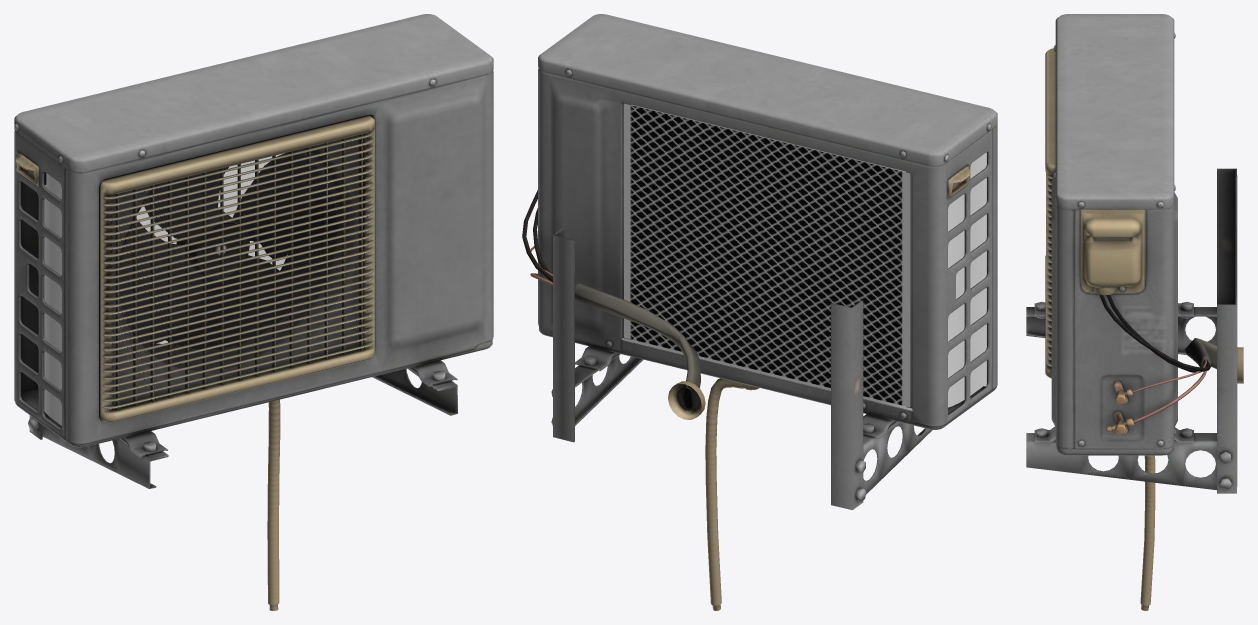
Rendered from outdoor-condenser.glb.
The picture shows the model from 3 angles, left to right: view 1: azimuth 30°, elevation 25°; view 2: azimuth 150°, elevation 25°; view 3: azimuth 270°, elevation 25°; orthographic projection. The views are drawn at different scales.
Visible parts, largest first — view 1: exterior_aircon_unit; view 2: exterior_aircon_unit; view 3: exterior_aircon_unit.
Boxes of the visible parts, x1,y1,x2,y2 form: exterior_aircon_unit: (14,14,493,610); exterior_aircon_unit: (522,14,997,610); exterior_aircon_unit: (1026,14,1243,610).
Size of the model in its own units: 0.8 by 0.9279 by 0.3742.
Materials: 2 (2 with a texture image).
